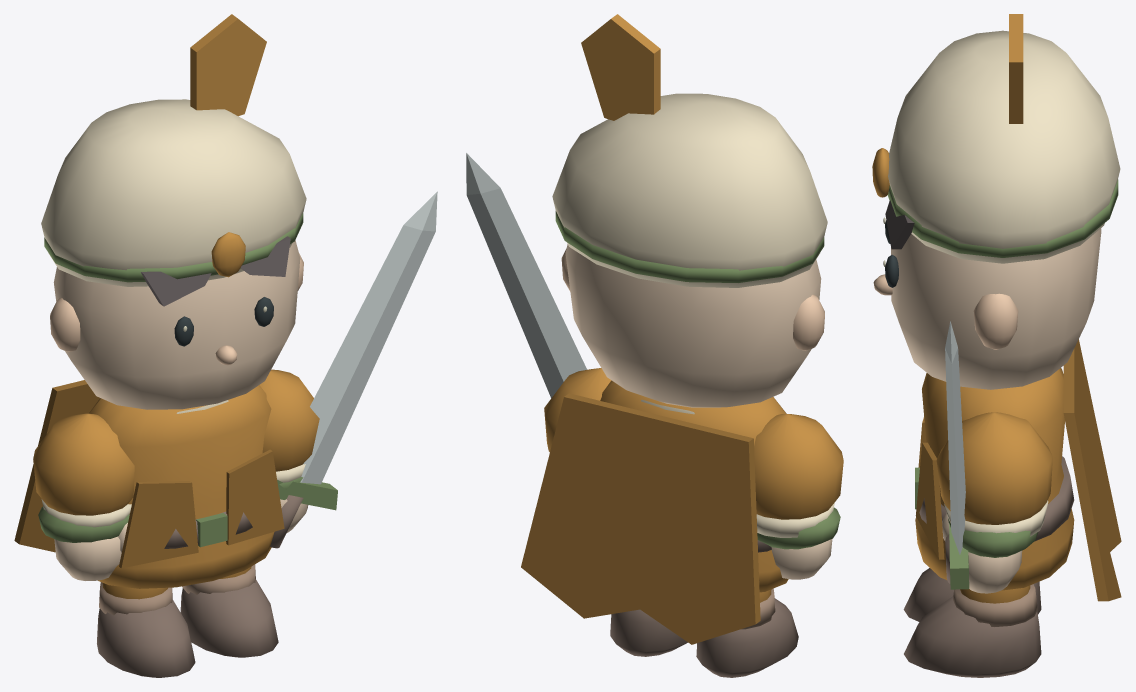
Rendered from giant.glb.
3 renders of one model, left to right at view 1: azimuth 30°, elevation 25°; view 2: azimuth 150°, elevation 25°; view 3: azimuth 270°, elevation 25°, orthographic. The views are drawn at different scales.
Parts seen in each view (by area): view 1: Layered cloth turban, Soft cheek head, Short folded tunic, Shaped bevel sword, Puff sleeve, Round leather boot, Turban fan, Round leather boot.001, Coat fold, Puff sleeve.001, Coat fold.001, Short scalloped cape (+14 smaller); view 2: Short scalloped cape, Layered cloth turban, Soft cheek head, Shaped bevel sword, Puff sleeve, Turban fan, Short folded tunic, Round leather boot, Turban wrapping, Round leather boot.001, Puff sleeve.001, Little mitten (+3 smaller); view 3: Layered cloth turban, Soft cheek head, Short folded tunic, Puff sleeve.001, Round leather boot.001, Short scalloped cape, Shaped bevel sword, Turban wrapping, Coat fold.001, Ear.001, Boot turn cuff.001, Little mitten.001 (+9 smaller).
Boxes of the visible parts, bbox=[...] form: Layered cloth turban: bbox=[41, 99, 306, 286]; Soft cheek head: bbox=[53, 240, 300, 409]; Short folded tunic: bbox=[88, 385, 274, 588]; Shaped bevel sword: bbox=[300, 191, 437, 484]; Puff sleeve: bbox=[33, 413, 134, 515]; Round leather boot: bbox=[97, 599, 195, 677]; Turban fan: bbox=[190, 14, 266, 116]; Round leather boot.001: bbox=[180, 579, 278, 657]; Coat fold: bbox=[119, 481, 198, 568]; Puff sleeve.001: bbox=[259, 369, 319, 471]; Coat fold.001: bbox=[226, 449, 284, 545]; Short scalloped cape: bbox=[14, 380, 99, 552]; Short scalloped cape: bbox=[521, 393, 760, 644]; Layered cloth turban: bbox=[552, 93, 827, 287]; Soft cheek head: bbox=[565, 244, 821, 407]; Shaped bevel sword: bbox=[466, 153, 586, 398]; Puff sleeve: bbox=[754, 414, 843, 519]; Turban fan: bbox=[581, 14, 660, 120]; Short folded tunic: bbox=[600, 380, 788, 592]; Round leather boot: bbox=[696, 598, 798, 677]; Turban wrapping: bbox=[555, 211, 824, 282]; Round leather boot.001: bbox=[610, 609, 687, 656]; Puff sleeve.001: bbox=[544, 368, 611, 452]; Little mitten: bbox=[771, 538, 832, 579]; Layered cloth turban: bbox=[888, 30, 1120, 263]; Soft cheek head: bbox=[891, 228, 1101, 389]; Short folded tunic: bbox=[915, 368, 1074, 590]; Puff sleeve.001: bbox=[936, 412, 1052, 524]; Round leather boot.001: bbox=[904, 596, 1041, 677]; Short scalloped cape: bbox=[1063, 339, 1121, 601]; Shaped bevel sword: bbox=[945, 321, 965, 554]; Turban wrapping: bbox=[887, 179, 1118, 257]; Coat fold.001: bbox=[915, 442, 944, 559]; Ear.001: bbox=[973, 293, 1018, 349]; Boot turn cuff.001: bbox=[953, 584, 1037, 626]; Little mitten.001: bbox=[968, 550, 1022, 593].
Bounding box in the file's own units: 1.65 × 2.53 × 0.8606.
